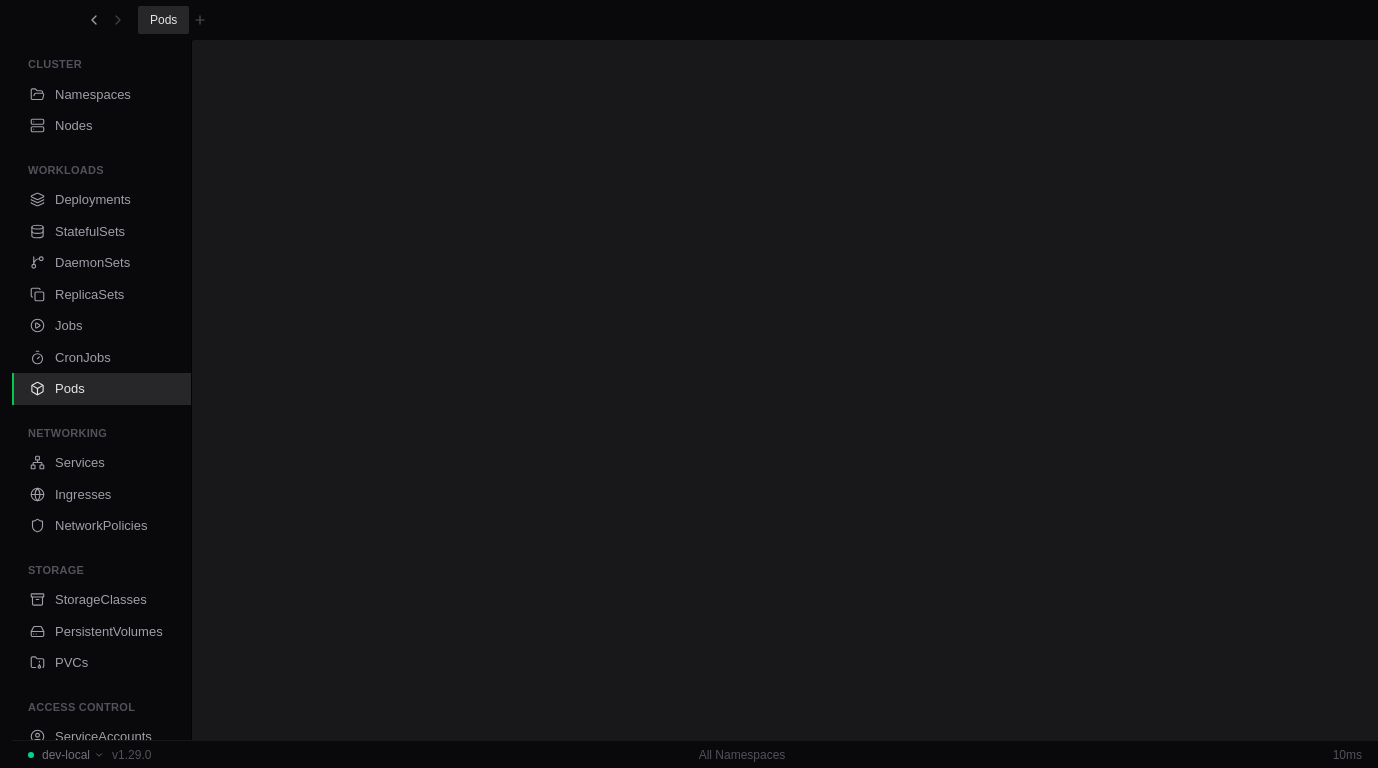
Test: DeploymentListView › shows empty state when no deployments found
Click the button "Deployments".
click(102, 200)  # box top-left (12, 184), bottom-right (191, 216)
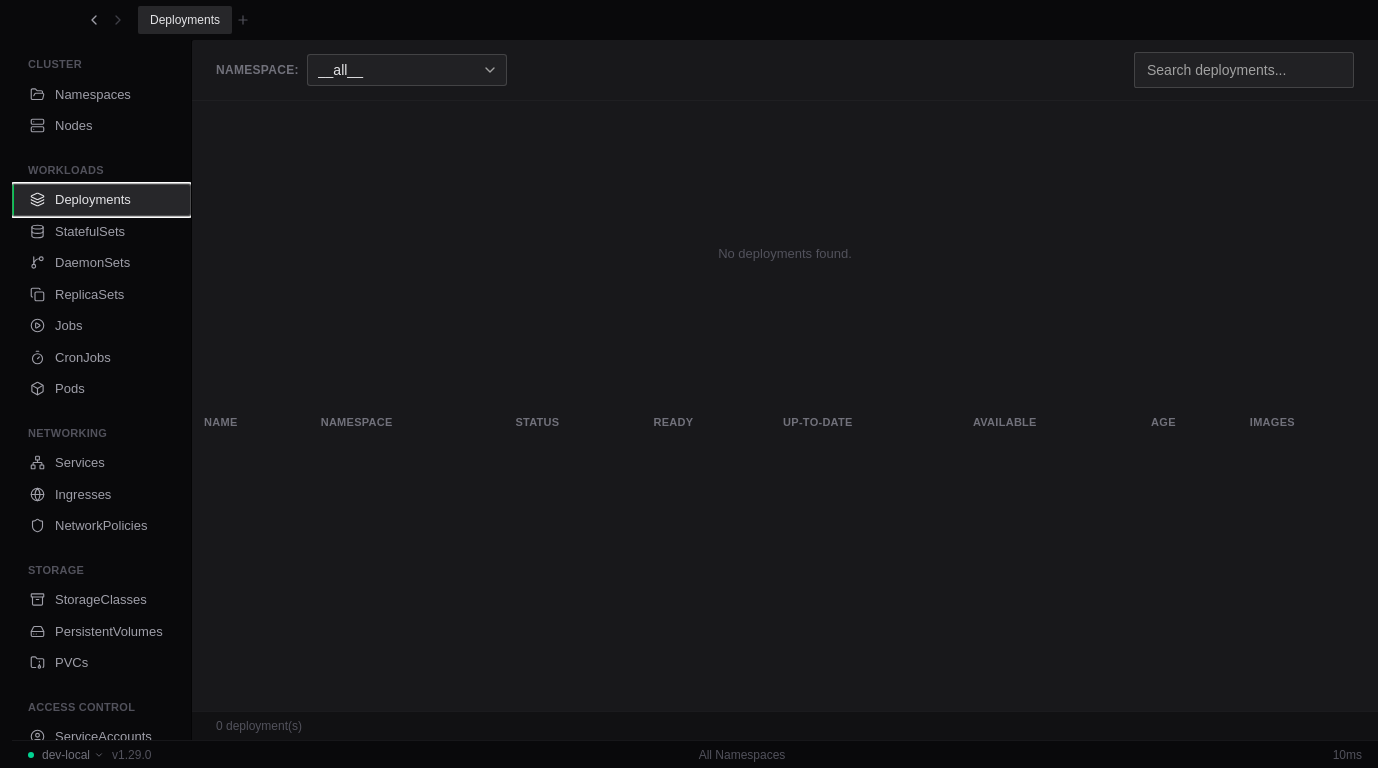
Expected: the text "No deployments found." is shown, top-left (718, 244), bottom-right (852, 263)
